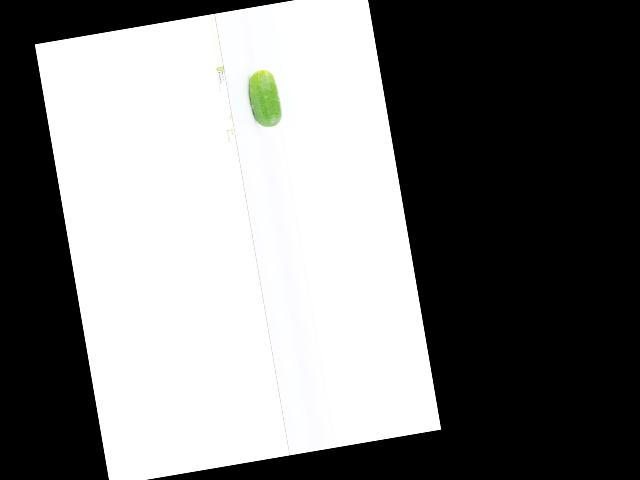cucumber: (245, 68, 283, 129)
